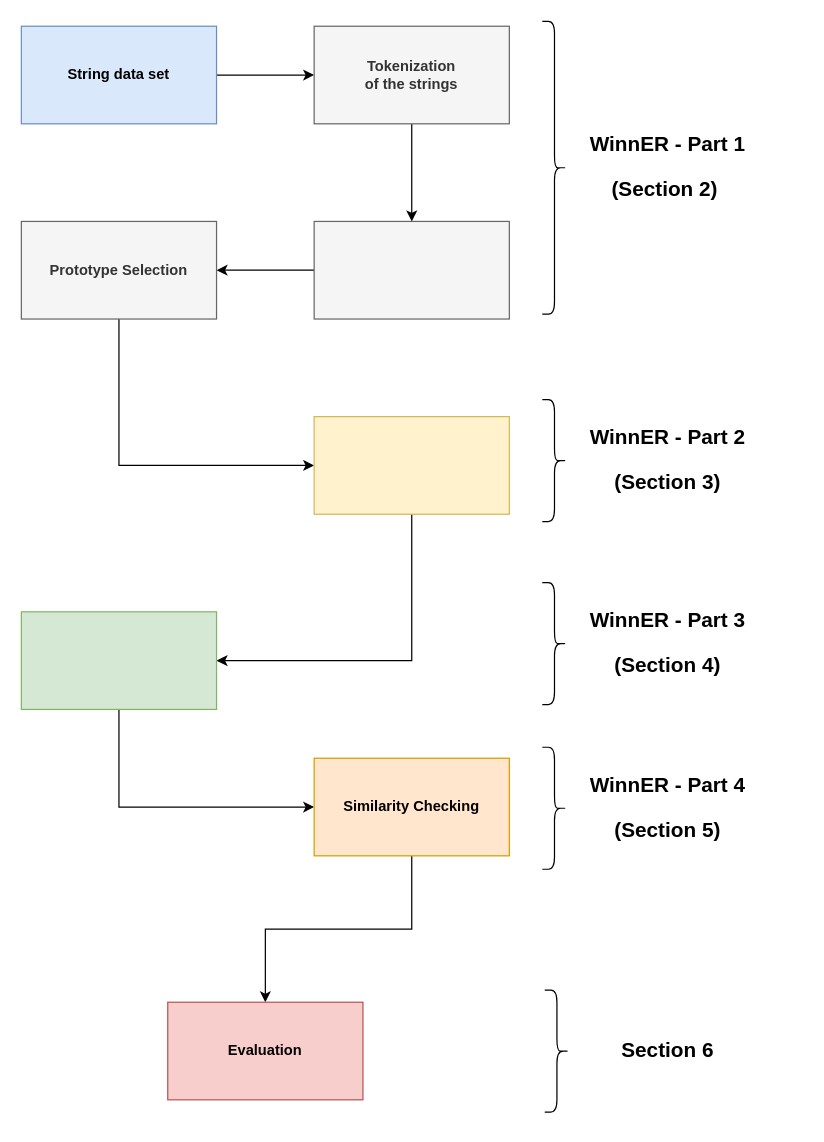
This 824x1142 diagram has some shape labels left out. Here are the shapes that lost their labels. From the top down, the centre of each, then its label:
point (411, 269): String Clustering Algorithm
point (411, 464): Embeddings Creation
point (118, 660): Winner-Take-All Hashing
